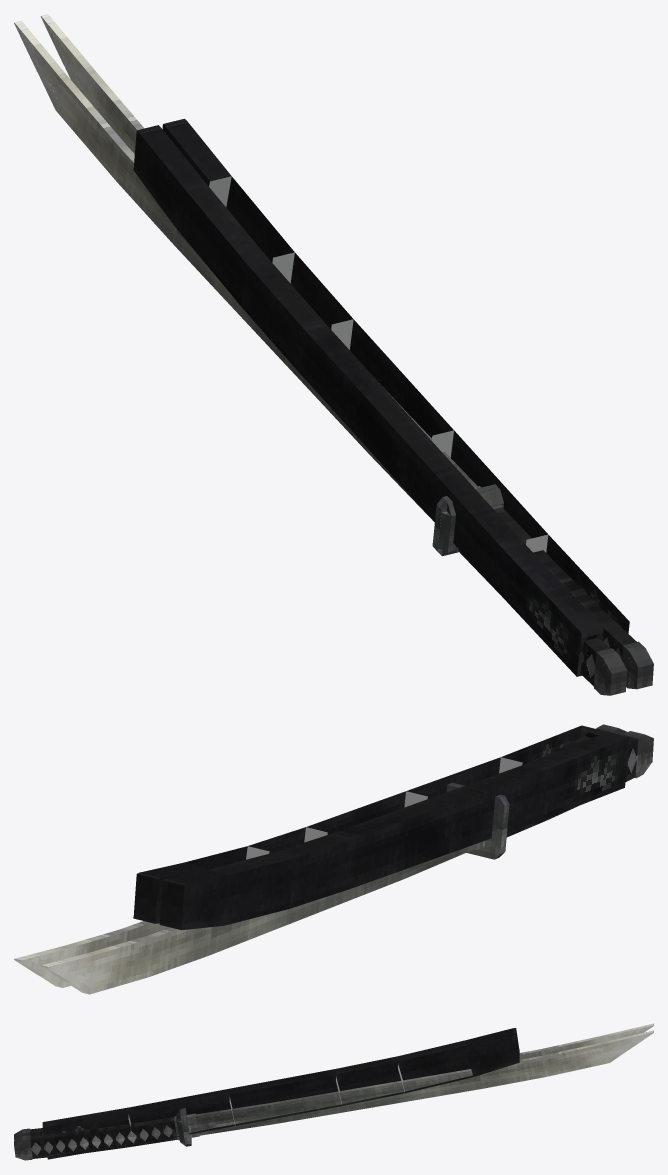
Rendered from yamato_dmc.glb.
3 renders of one model, top to bottom at view 1: azimuth 30°, elevation 25°; view 2: azimuth 150°, elevation 25°; view 3: azimuth 270°, elevation 25°, orthographic. The views are drawn at different scales.
Visible parts, largest first — view 1: main__Tool_L, off__Tool_R, off__Tool_L, main__Tool_R; view 2: main__Tool_L, off__Tool_L, off__Tool_R, main__Tool_R; view 3: main__Tool_R, off__Tool_R, main__Tool_L, off__Tool_L.
Boxes of the visible parts, bbox=[...] form: main__Tool_L: bbox=[133, 125, 603, 676]; off__Tool_R: bbox=[162, 118, 629, 633]; off__Tool_L: bbox=[14, 20, 627, 695]; main__Tool_R: bbox=[40, 14, 653, 689]; main__Tool_L: bbox=[159, 732, 629, 930]; off__Tool_L: bbox=[40, 731, 653, 994]; off__Tool_R: bbox=[133, 725, 603, 923]; main__Tool_R: bbox=[14, 724, 626, 987]; main__Tool_R: bbox=[14, 1030, 653, 1160]; off__Tool_R: bbox=[42, 1034, 519, 1159]; main__Tool_L: bbox=[42, 1028, 519, 1128]; off__Tool_L: bbox=[14, 1023, 653, 1140].
Size of the model in its own units: 0.1428 by 0.481 by 2.19.
Materials: 1 (1 with a texture image).
